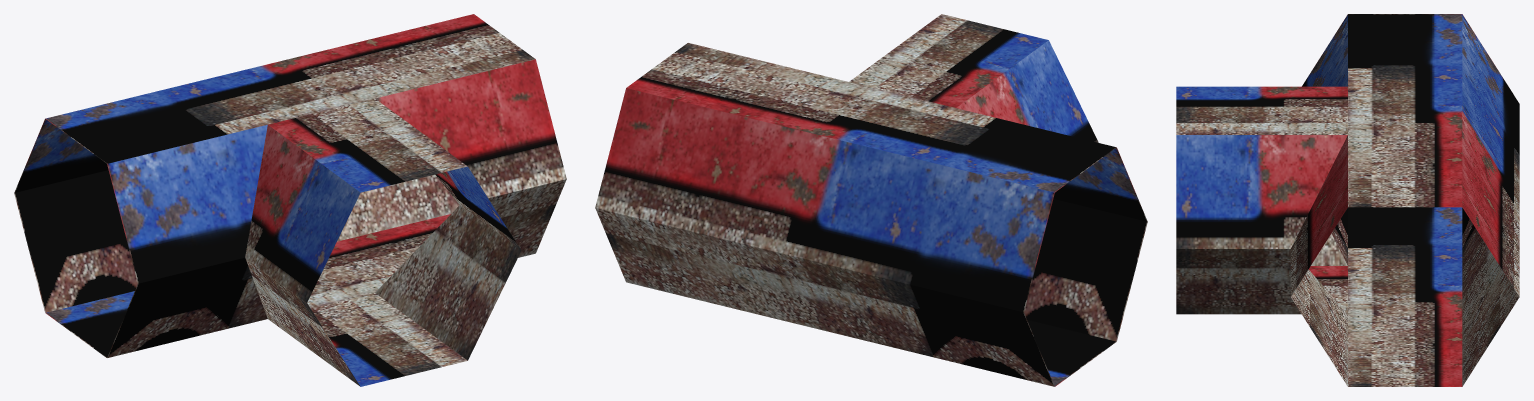
Rendered from Urban_PipeIntersectionTRusted_Model.fbx.
3 renders of one model, left to right at view 1: azimuth 30°, elevation 25°; view 2: azimuth 150°, elevation 25°; view 3: azimuth 270°, elevation 25°, orthographic. The views are drawn at different scales.
Parts seen in each view (by area): view 1: Urban_PipeIntersectionTRusted_Mesh; view 2: Urban_PipeIntersectionTRusted_Mesh; view 3: Urban_PipeIntersectionTRusted_Mesh.
Boxes of the visible parts, x1,y1,x2,y2 form: Urban_PipeIntersectionTRusted_Mesh: (14, 14, 566, 386); Urban_PipeIntersectionTRusted_Mesh: (595, 14, 1147, 386); Urban_PipeIntersectionTRusted_Mesh: (1176, 14, 1519, 386).
Size of the model in its own units: 1 by 0.433 by 0.75.
